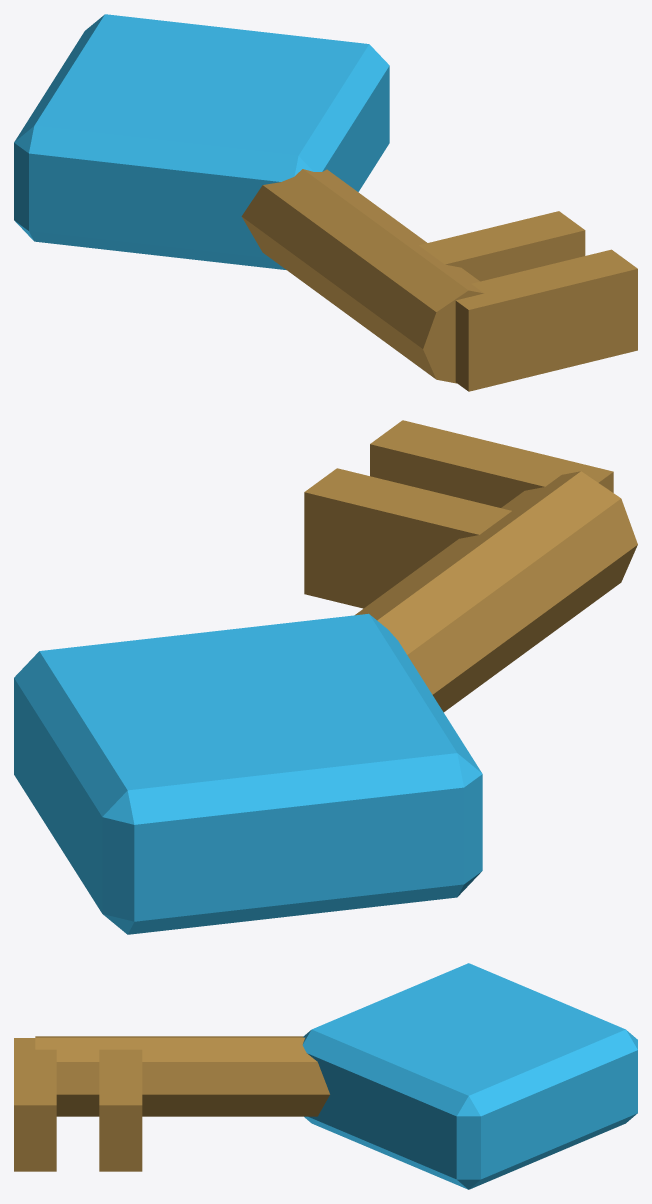
Rendered from key-blue.glb.
3 views of the same model, one above another, from view 1: azimuth 30°, elevation 25°; view 2: azimuth 150°, elevation 25°; view 3: azimuth 270°, elevation 25° (orthographic). The views are drawn at different scales.
Parts seen in each view (by area): view 1: key-blue; view 2: key-blue; view 3: key-blue.
Part boxes in pixels (x1,y1,x2,y2): key-blue: (14, 14, 637, 391); key-blue: (14, 420, 637, 934); key-blue: (14, 963, 637, 1189).
Size of the model in its own units: 0.2772 by 0.085 by 0.5111.
